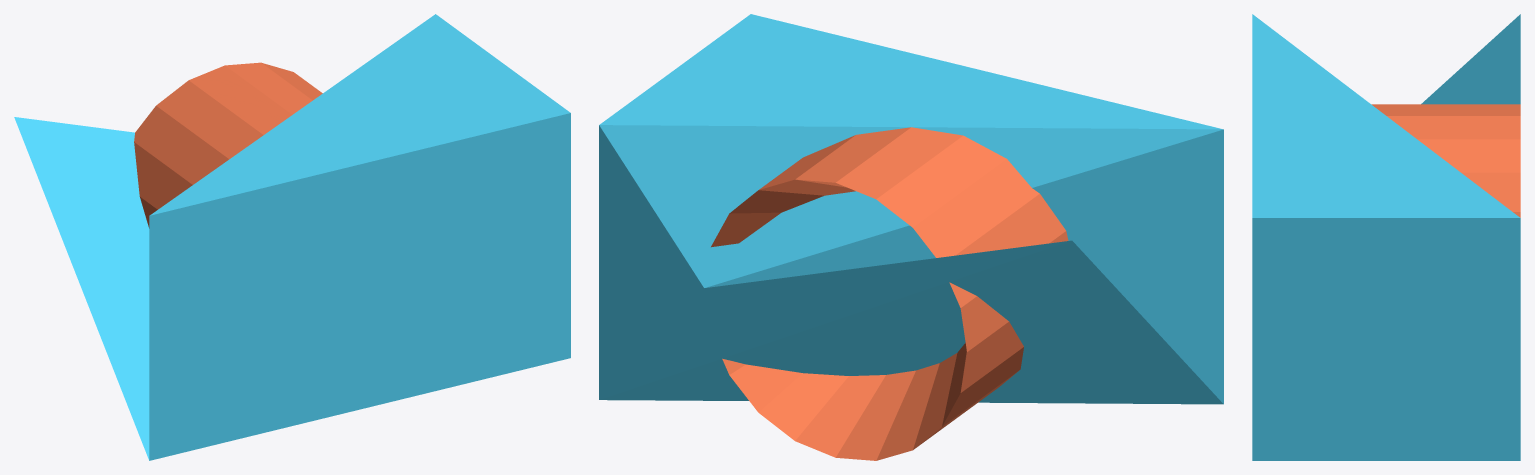
Rendered from Jarvis-QA-Model.obj.
3 views of the same model, side by side, from view 1: azimuth 30°, elevation 25°; view 2: azimuth 150°, elevation 25°; view 3: azimuth 270°, elevation 25° (orthographic). The views are drawn at different scales.
Parts seen in each view (by area): view 1: Cubo_1, Cilindro_2; view 2: Cubo_1, Cilindro_2; view 3: Cubo_1, Cilindro_2.
Part boxes in pixels (x1,y1,x2,y2): Cubo_1: [14, 14, 570, 460]; Cilindro_2: [134, 62, 322, 228]; Cubo_1: [599, 14, 1223, 404]; Cilindro_2: [711, 127, 1068, 460]; Cubo_1: [1252, 14, 1520, 460]; Cilindro_2: [1371, 104, 1520, 217].
Size of the model in its own units: 3.6 by 2 by 2.
